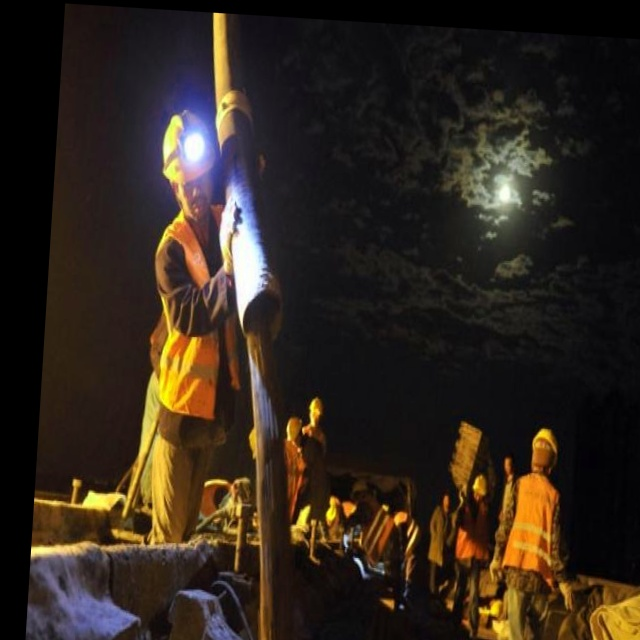Con_Casco: (156, 109, 219, 216)
Con_Chaleco: (502, 471, 557, 568)
